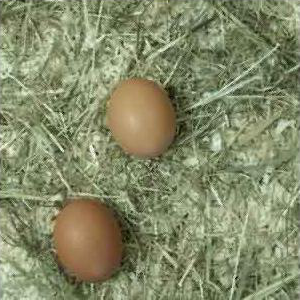egg: (55, 199, 123, 283), (108, 80, 177, 156)
